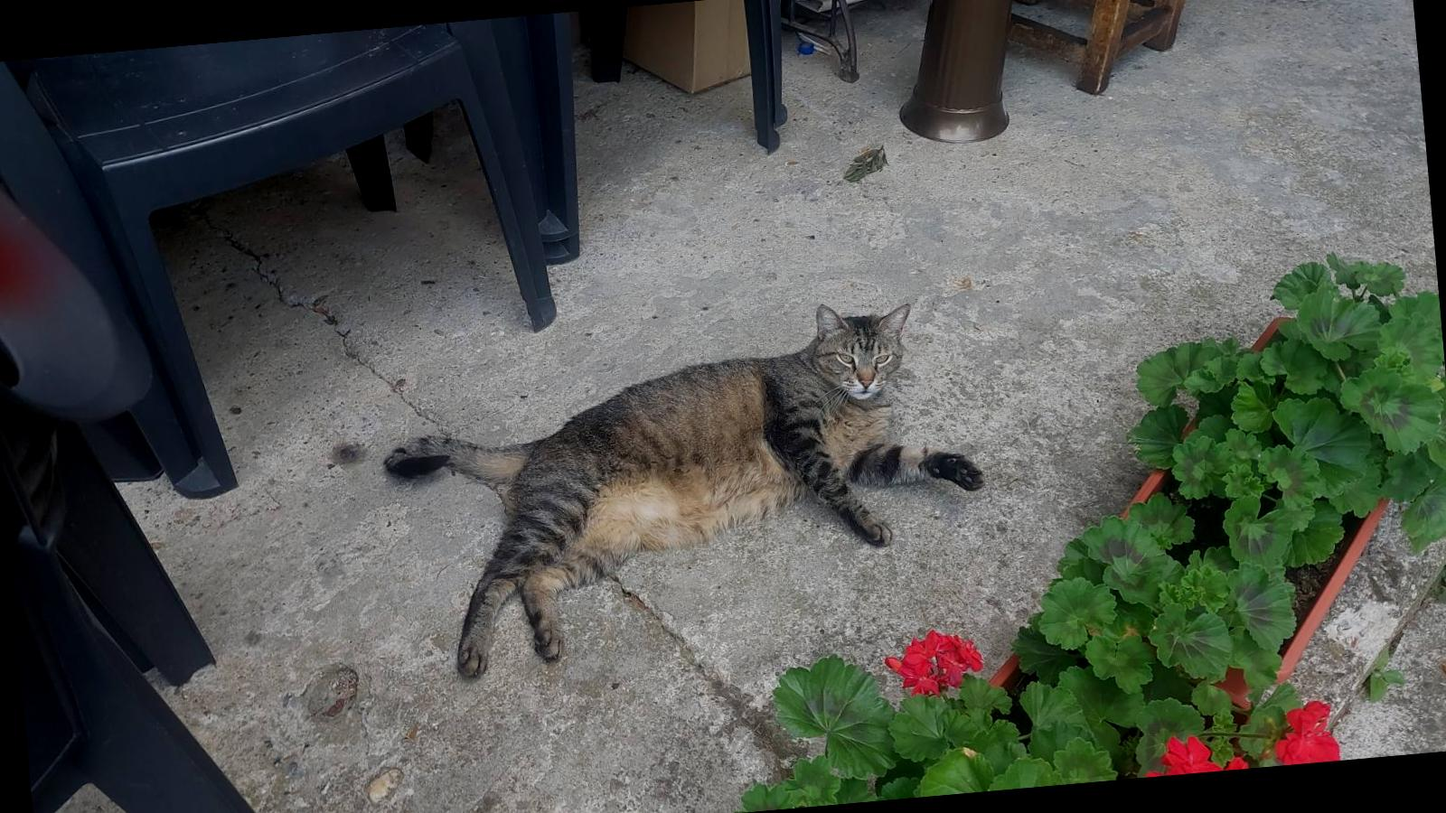macka: (372, 291, 1004, 684)
